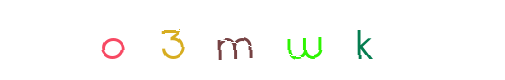3: (212, 0, 292, 80)
K: (265, 0, 345, 80)
M: (220, 0, 300, 80)
O: (106, 0, 186, 80)
W: (245, 0, 325, 80)
